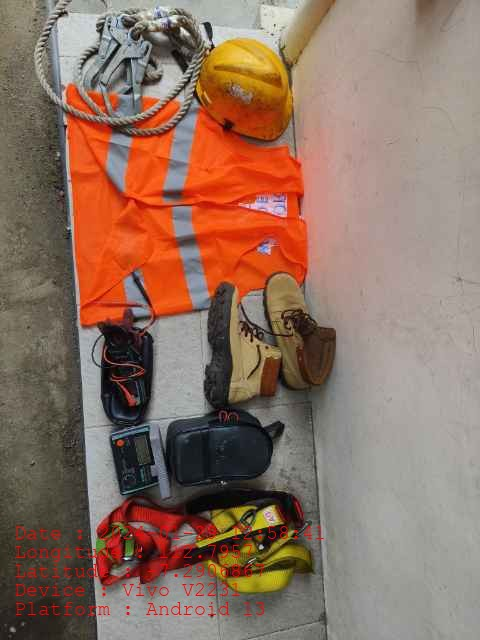HELM: (194, 36, 294, 142)
ROMPI: (67, 131, 308, 299)
